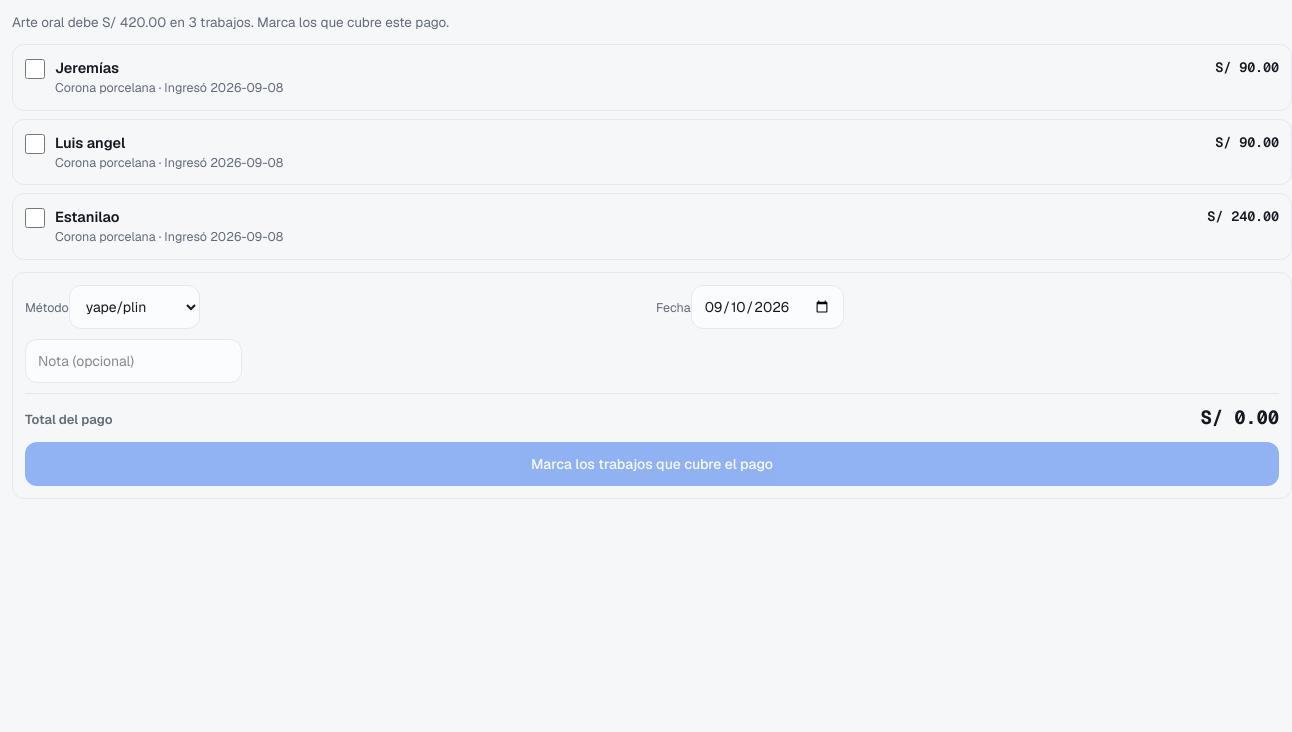
Test: FormularioDeCobro › marcar dos trabajos suma los dos
Click the checkbox labelled "Jeremías Corona porcelana · Ingresó 2026-09-08 S/ 90.00": (35, 69) [25, 59, 45, 79]
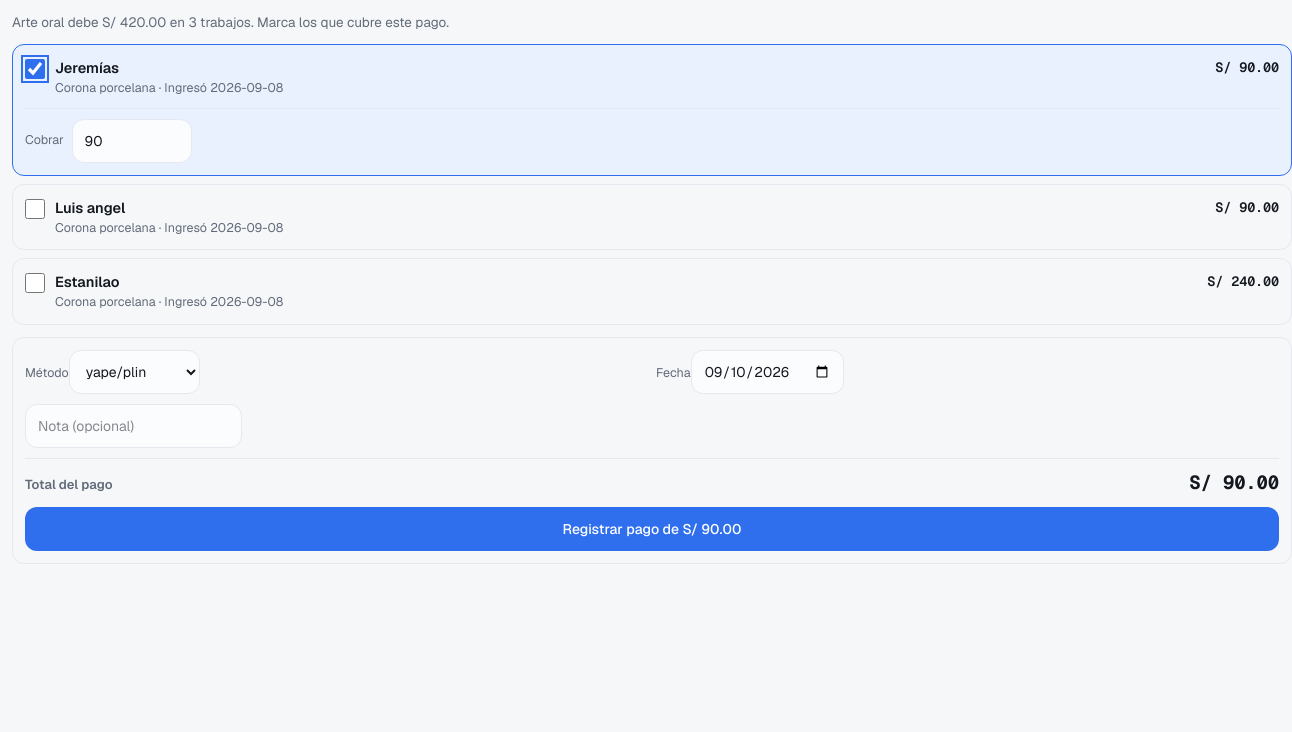
Click the checkbox labelled "Luis angel Corona porcelana · Ingresó 2026-09-08 S/ 90.00": (35, 209) [25, 199, 45, 219]
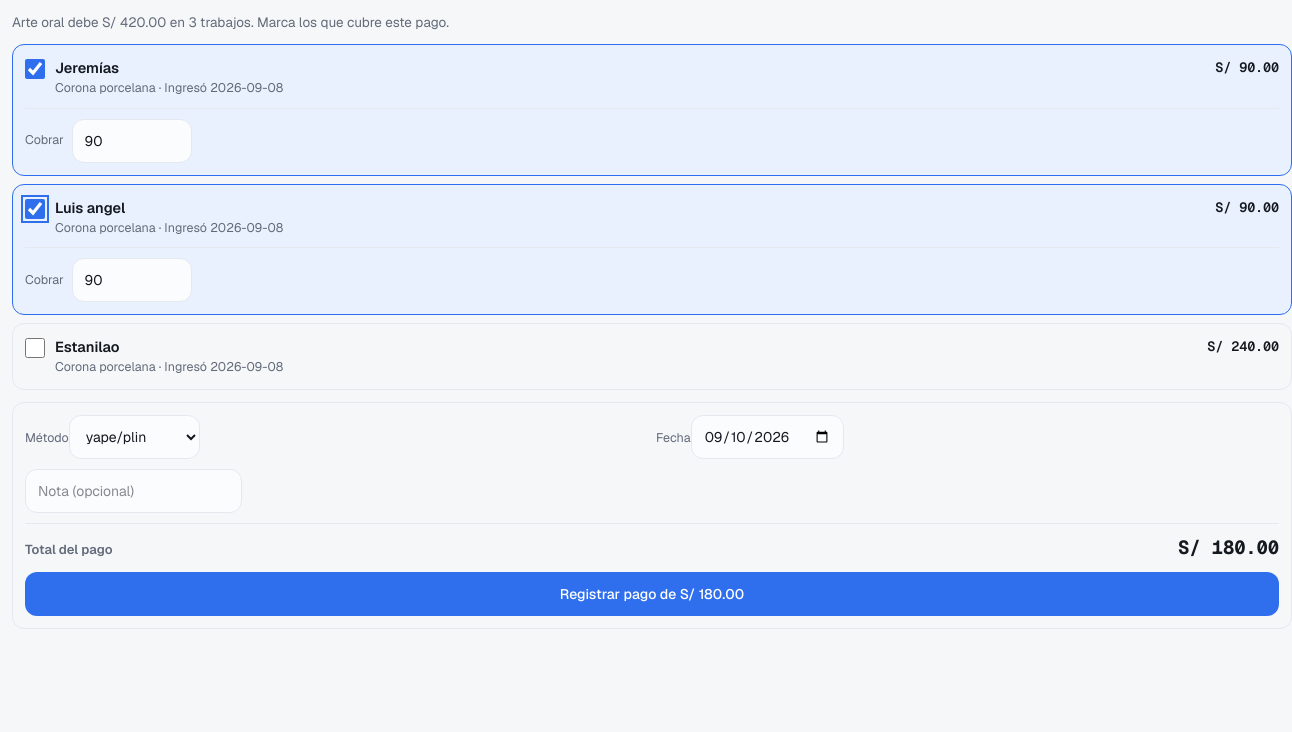
expect the button "Registrar pago de S/ 180.00" is shown: met, box [25, 572, 1279, 616]
